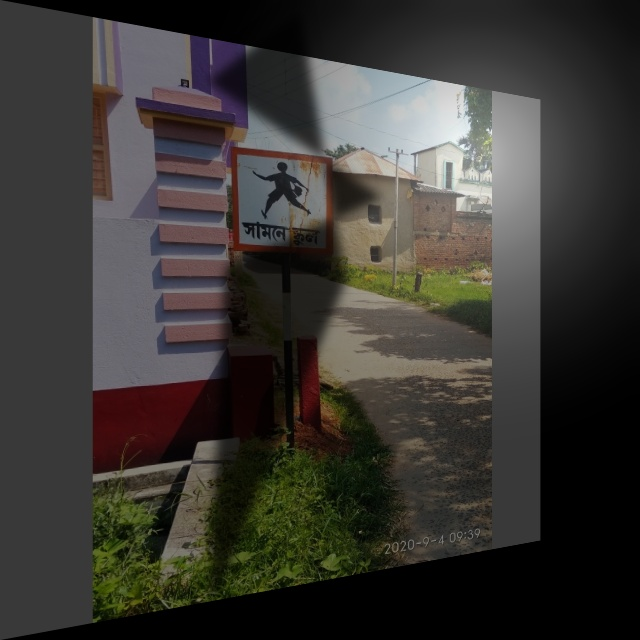School_Ahead: (237, 147, 331, 251)
